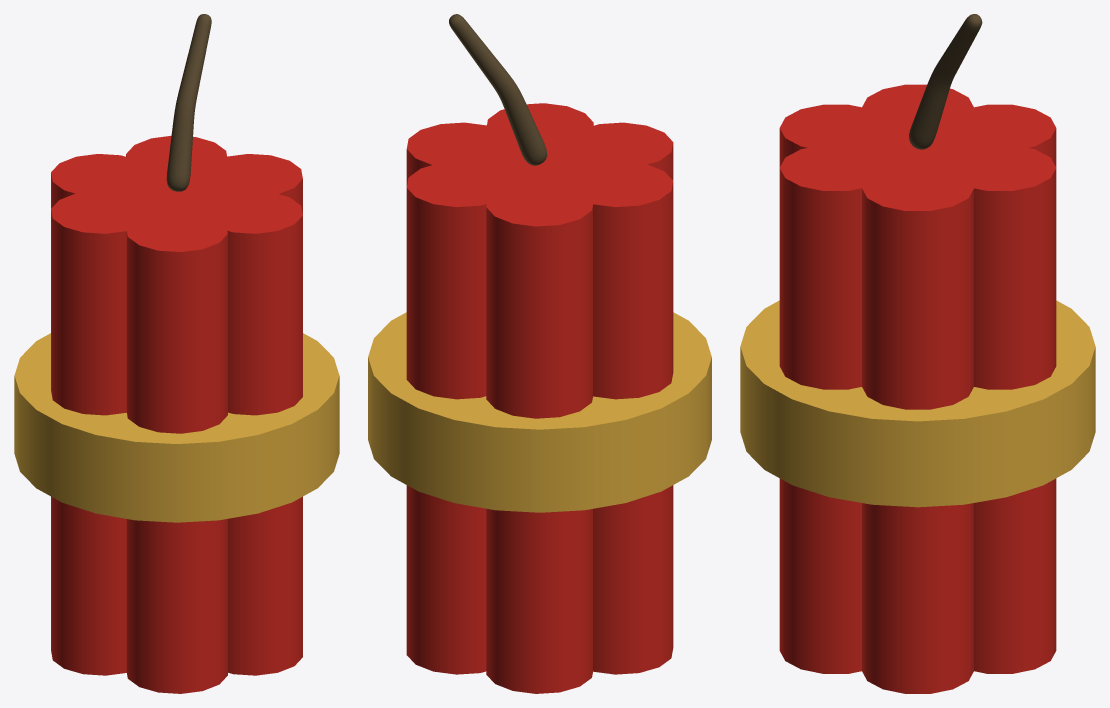
The model's file is firecracker.glb.
3 views of the same model, side by side, from view 1: azimuth 30°, elevation 25°; view 2: azimuth 150°, elevation 25°; view 3: azimuth 270°, elevation 25° (orthographic). The views are drawn at different scales.
Parts seen in each view (by area): view 1: tubes, wrap, fuse; view 2: tubes, wrap, fuse; view 3: tubes, wrap, fuse.
Part boxes in pixels (<box>): tubes: <box>51,135,302,693</box>; wrap: <box>14,333,339,522</box>; fuse: <box>166,14,211,191</box>; tubes: <box>406,103,673,693</box>; wrap: <box>368,312,711,512</box>; fuse: <box>449,14,547,165</box>; tubes: <box>779,84,1056,693</box>; wrap: <box>740,300,1095,507</box>; fuse: <box>909,14,982,149</box>.
Bounding box in the file's own units: 0.06 × 0.1201 × 0.06.
